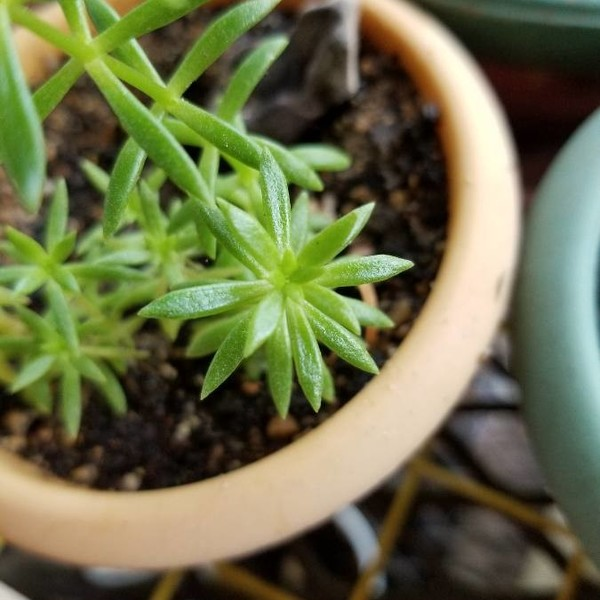obstacle: (14, 9, 523, 525)
